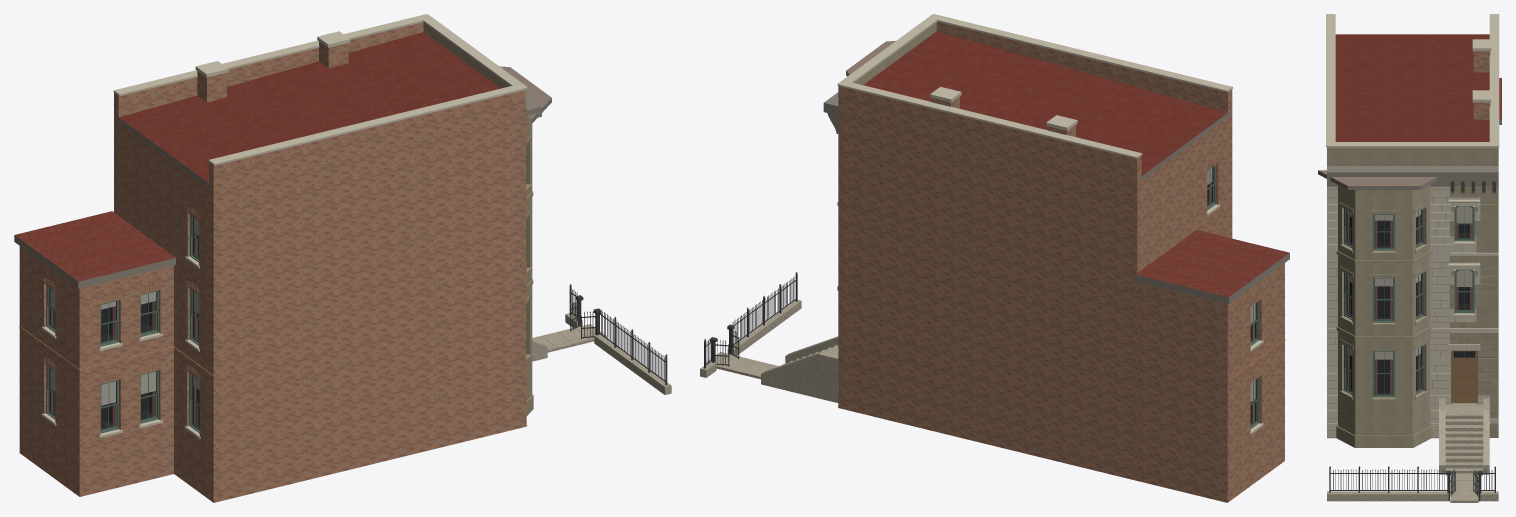
The model's file is tolman_house_2031_prairie__as_mapped_1904.glb.
3 views of the same model, side by side, from view 1: azimuth 30°, elevation 25°; view 2: azimuth 150°, elevation 25°; view 3: azimuth 270°, elevation 25° (orthographic). The views are drawn at different scales.
Parts seen in each view (by area): view 1: tolman_house_2031_prairie__as_mapped_1904; view 2: tolman_house_2031_prairie__as_mapped_1904; view 3: tolman_house_2031_prairie__as_mapped_1904.
Part boxes in pixels (left/top/right/bottom): tolman_house_2031_prairie__as_mapped_1904: left=14, top=14, right=671, bottom=502; tolman_house_2031_prairie__as_mapped_1904: left=700, top=14, right=1289, bottom=502; tolman_house_2031_prairie__as_mapped_1904: left=1318, top=14, right=1501, bottom=502.
Bounding box in the file's own units: 25.42 × 15.18 × 8.35.
23 materials, 12 textured.
